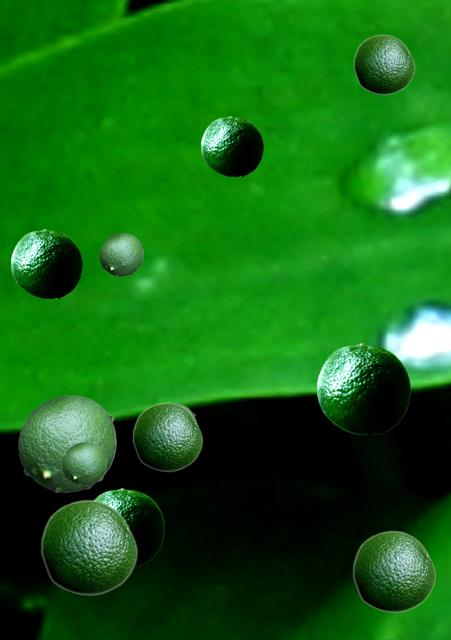calamansi: (40, 499, 137, 595), (18, 395, 115, 491), (317, 343, 409, 433), (352, 530, 435, 612), (94, 488, 163, 565), (132, 402, 202, 471), (11, 229, 81, 297), (353, 34, 414, 94), (201, 116, 262, 175), (99, 233, 142, 275), (62, 442, 105, 484)
